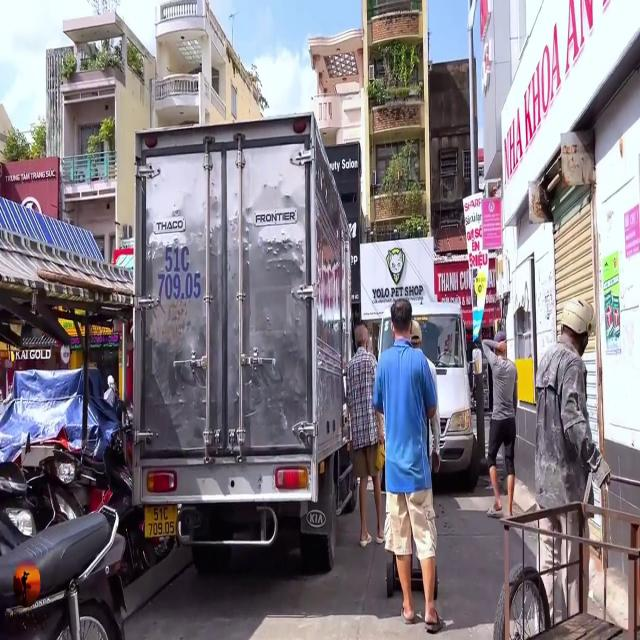bien_vang: (145, 504, 177, 536)
